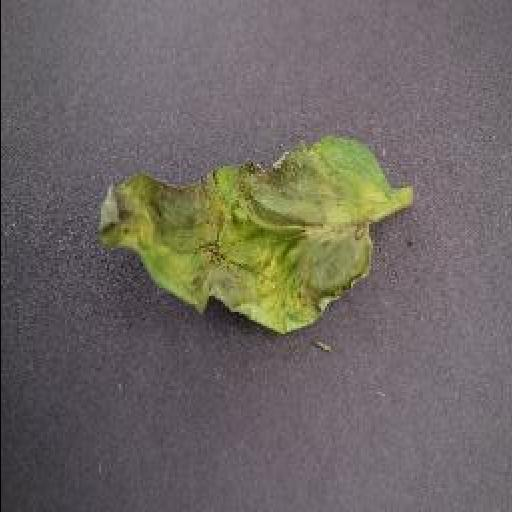disease_tomato: (94, 134, 390, 334)
